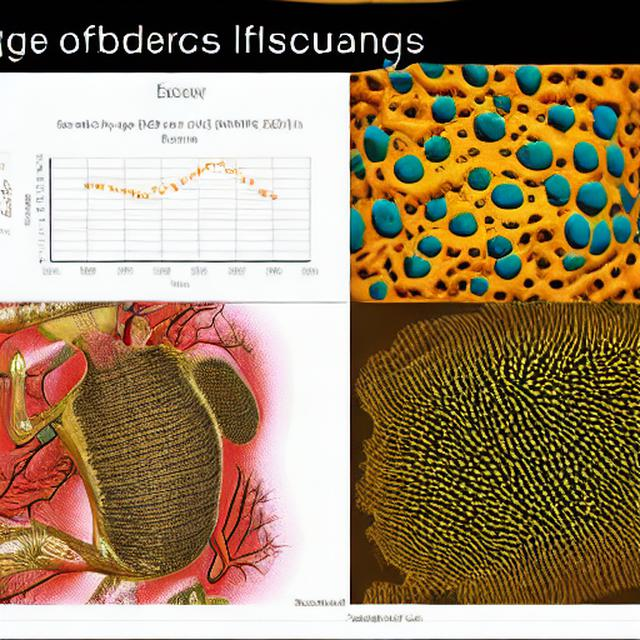Graph: (14, 113, 323, 297)
